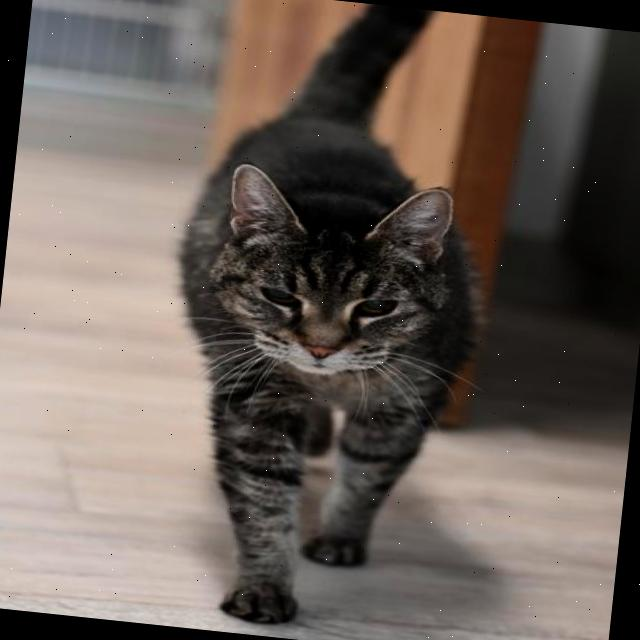domestic_short_hair_cat: (175, 150, 496, 404)
